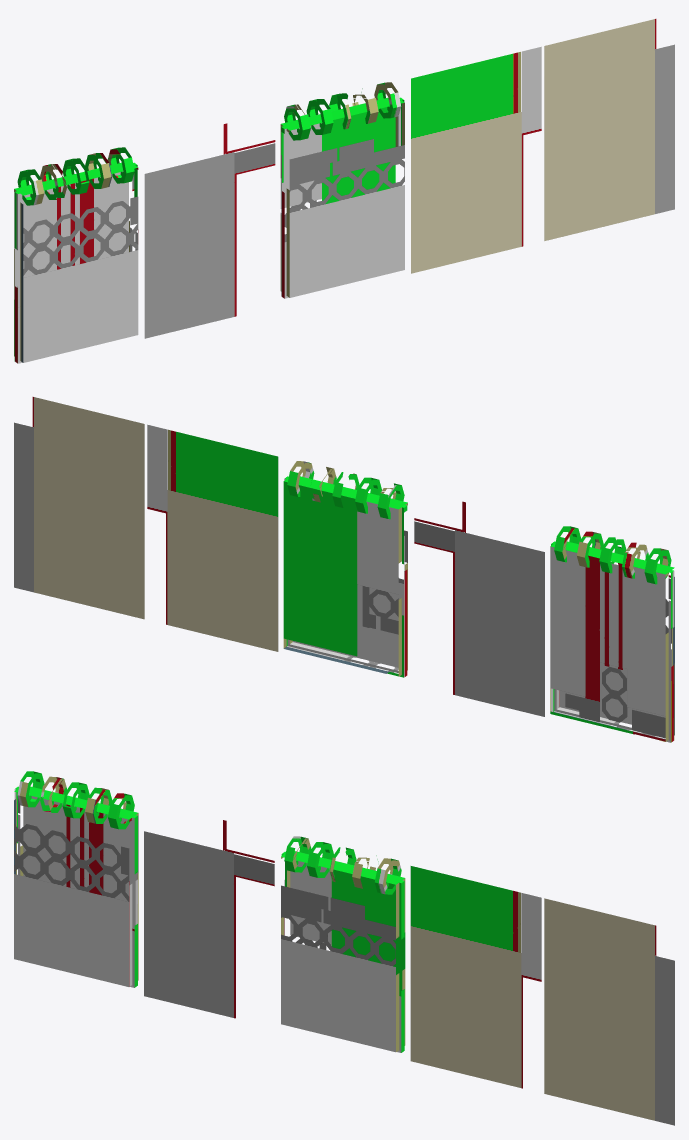
Rendered from escapeMarcelo.fbx.
3 renders of one model, top to bottom at view 1: azimuth 30°, elevation 25°; view 2: azimuth 150°, elevation 25°; view 3: azimuth 330°, elevation 25°, orthographic.
Visible parts, largest first — view 1: Folha.002, Folha, Bloquinho.001, Bloquinho, Folha.001; view 2: Folha.002, Folha, Bloquinho.001, Bloquinho, Folha.001; view 3: Folha.002, Folha, Bloquinho.001, Bloquinho, Folha.001.
Boxes of the visible parts, x1,y1,x2,y2 form: Folha.002: (544, 19, 674, 240); Folha: (411, 46, 541, 273); Bloquinho.001: (14, 147, 138, 363); Bloquinho: (280, 82, 404, 298); Folha.001: (144, 123, 275, 338); Folha.002: (14, 397, 144, 619); Folha: (147, 424, 278, 651); Bloquinho.001: (550, 526, 674, 742); Bloquinho: (283, 461, 407, 677); Folha.001: (414, 501, 544, 716); Folha.002: (544, 898, 674, 1125); Folha: (410, 866, 541, 1088); Bloquinho.001: (14, 771, 138, 987); Bloquinho: (281, 836, 405, 1052); Folha.001: (144, 820, 274, 1018).
Size of the model in its own units: 494 by 140 by 24.46.
1 material, 1 textured.
